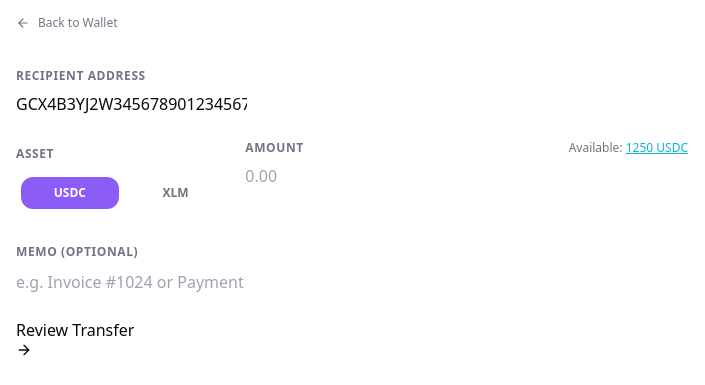
Test: WalletTransferPage › advances to confirmation step upon valid inputs
This screenshot has width=705, height=385.
In the number field with test id "amount-input": (361, 176) [245,164,476,188], type "50"
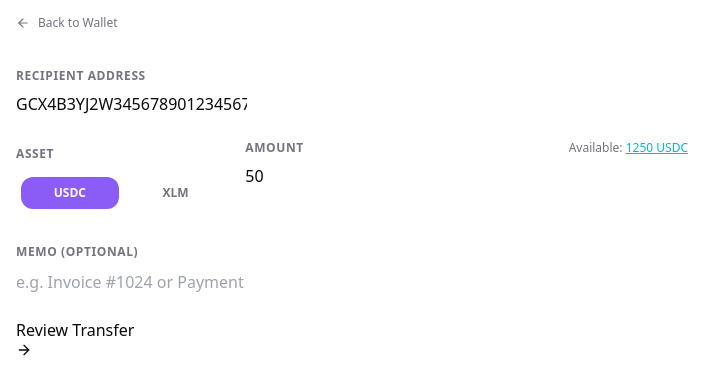
Click the button with test id "review-transfer-button": (75, 338) [16,318,134,358]
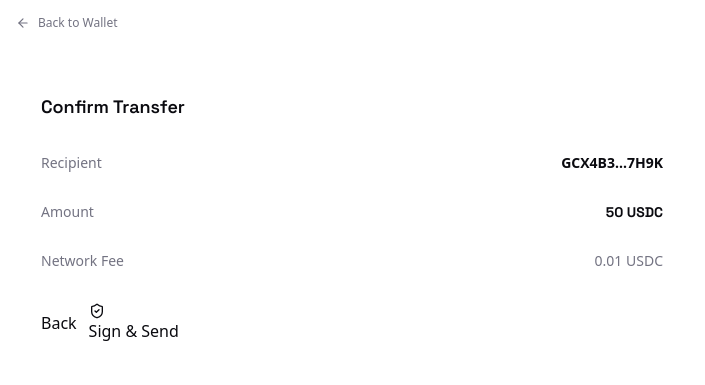
Now the element with test id "confirm-transfer-step" is shown
Now the heading "Confirm Transfer" is shown, box [41,95,185,118]
